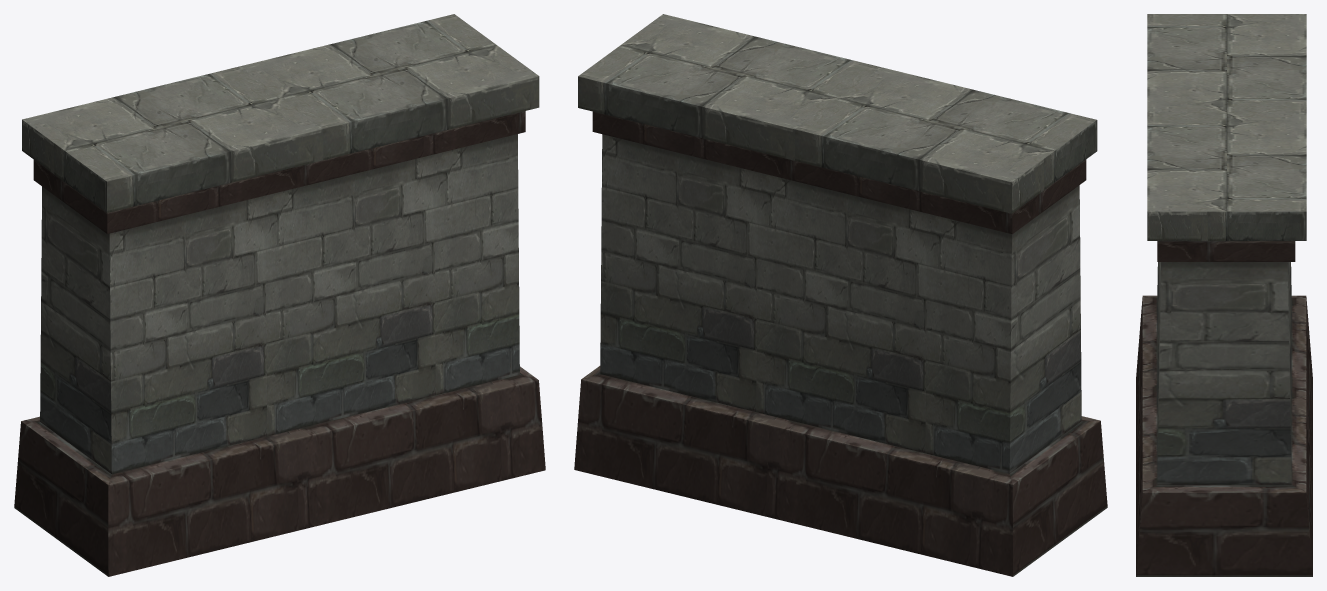
File: building_city_chengqiang03.FBX
3 views of the same model, side by side, from view 1: azimuth 30°, elevation 25°; view 2: azimuth 150°, elevation 25°; view 3: azimuth 270°, elevation 25° (orthographic). The views are drawn at different scales.
Visible parts, largest first — view 1: building_city_chengqiang03; view 2: building_city_chengqiang03; view 3: building_city_chengqiang03.
Part boxes in pixels (<box>): building_city_chengqiang03: <box>14,14,545,576</box>; building_city_chengqiang03: <box>574,14,1107,576</box>; building_city_chengqiang03: <box>1136,14,1312,576</box>.
Size of the model in its own units: 14.75 by 12.56 by 5.51.
